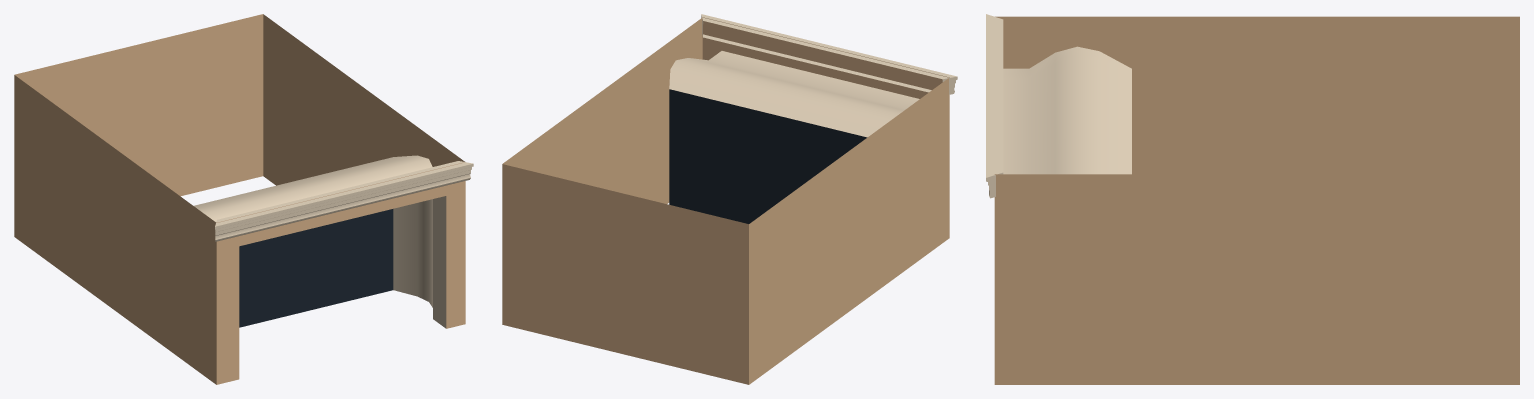
3 renders of one model, left to right at view 1: azimuth 30°, elevation 25°; view 2: azimuth 150°, elevation 25°; view 3: azimuth 270°, elevation 25°, orthographic. The views are drawn at different scales.
Parts seen in each view (by area): view 1: B1_GF_02; view 2: B1_GF_02; view 3: B1_GF_02.
Boxes of the visible parts, bbox=[...] form: B1_GF_02: bbox=[14, 14, 473, 384]; B1_GF_02: bbox=[502, 14, 957, 384]; B1_GF_02: bbox=[986, 14, 1519, 384].
Bounding box in the file's own units: 5.9 × 3.53 × 8.12.
